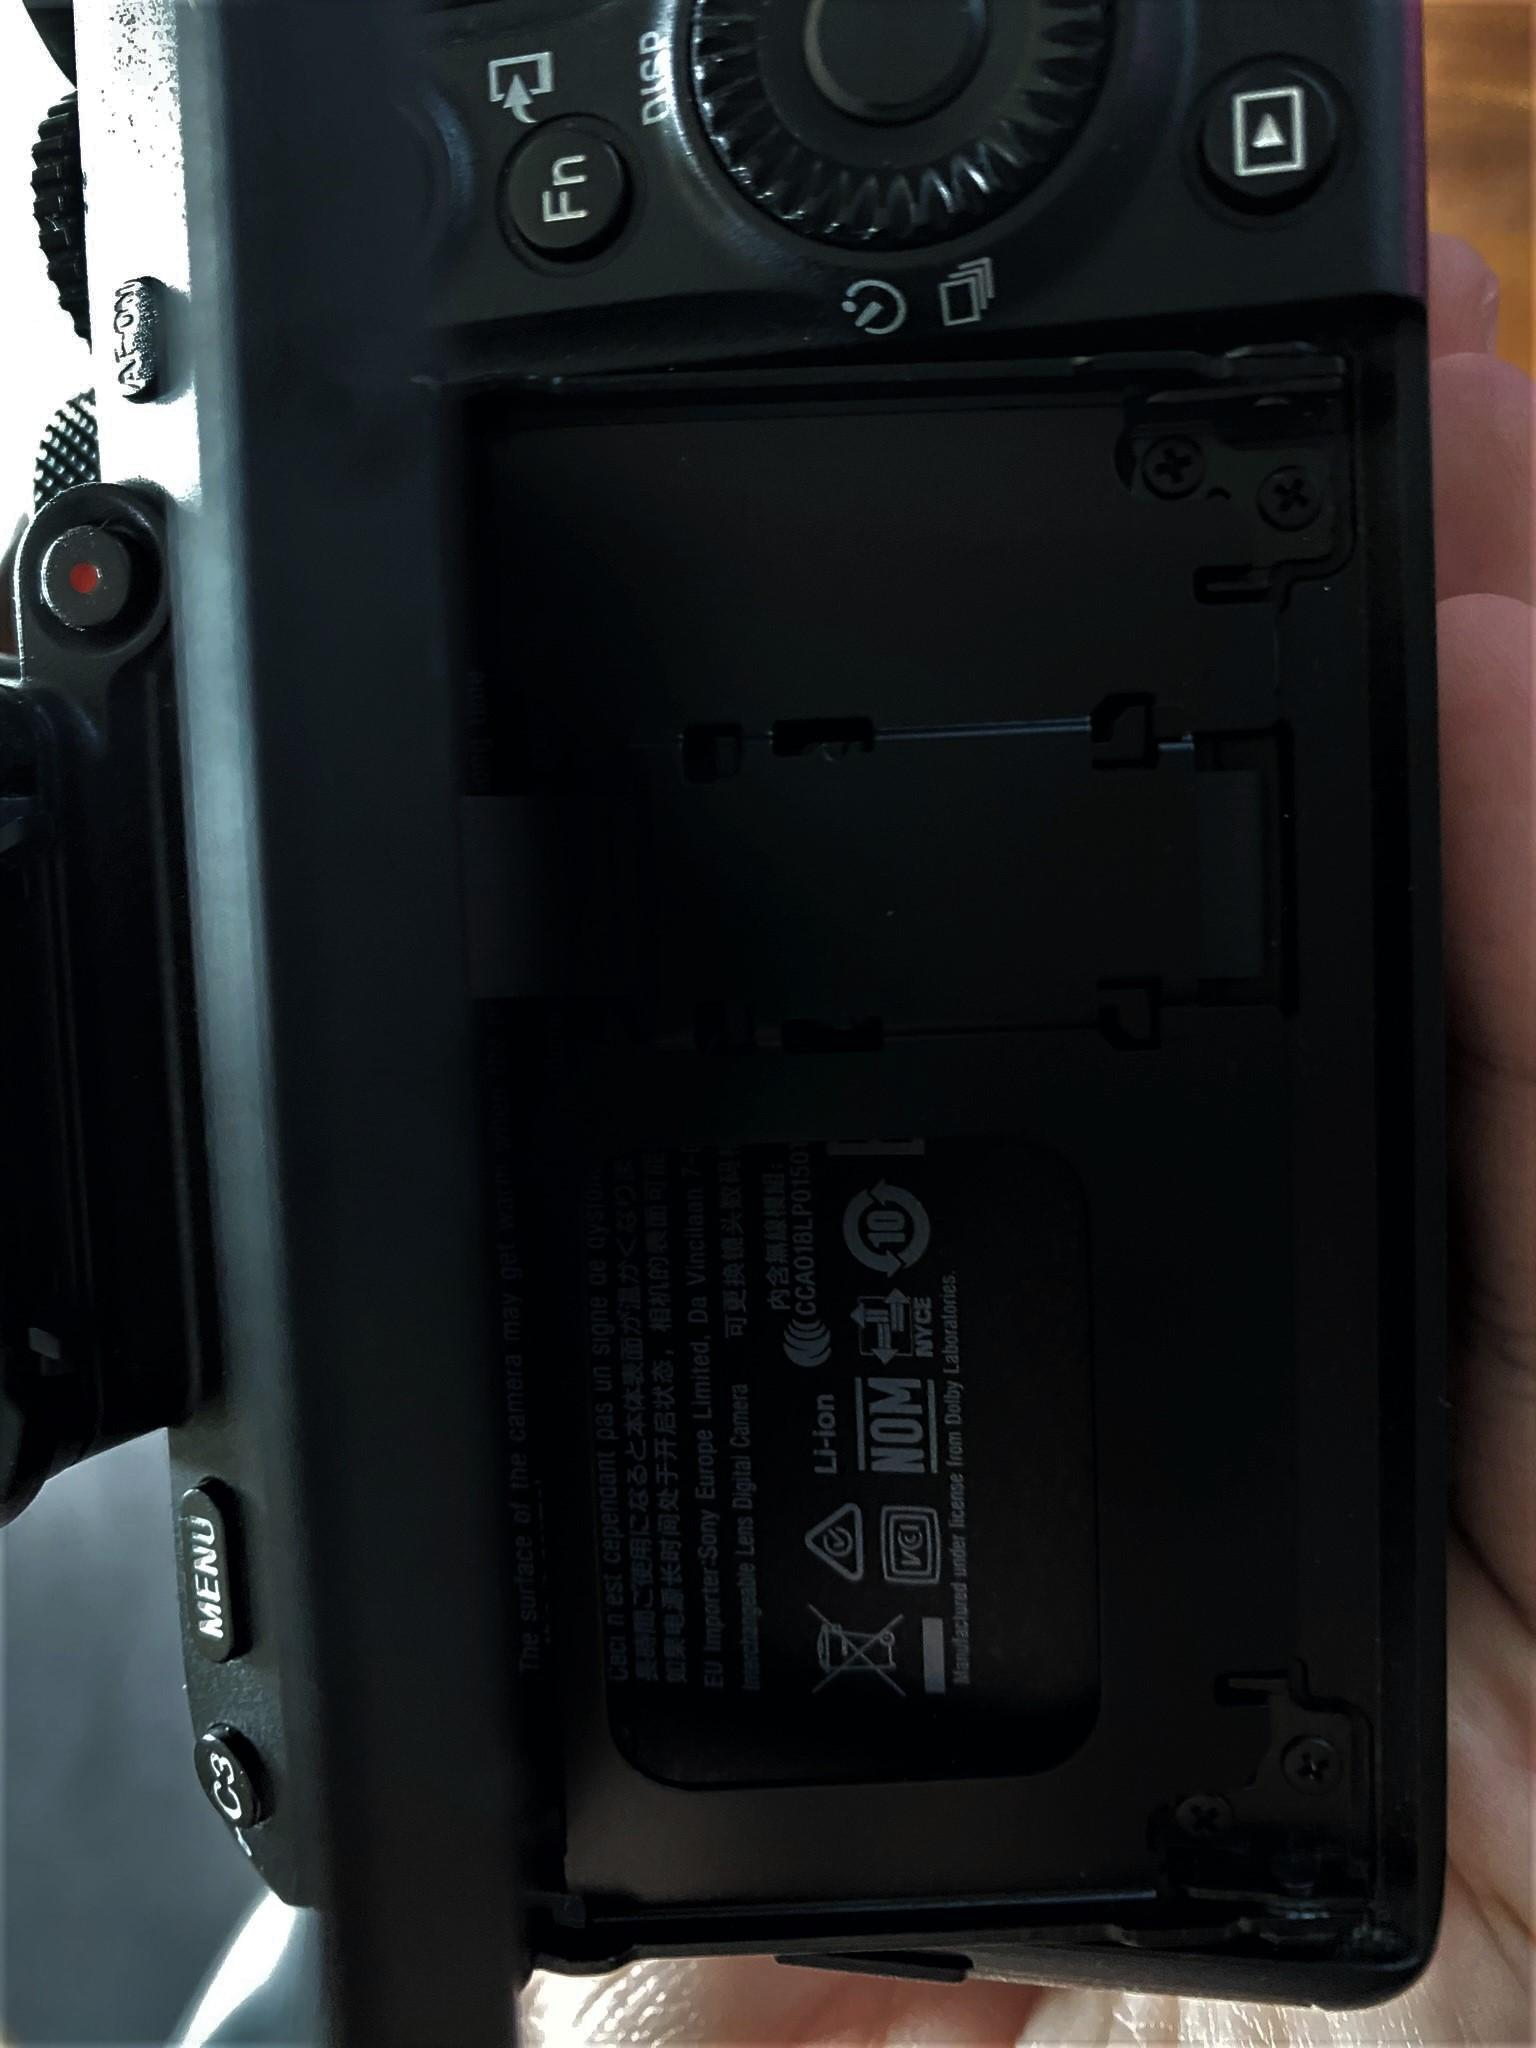PH: (1254, 464, 1321, 531), (1137, 434, 1202, 498), (1284, 1737, 1344, 1800), (1176, 1798, 1236, 1850)
